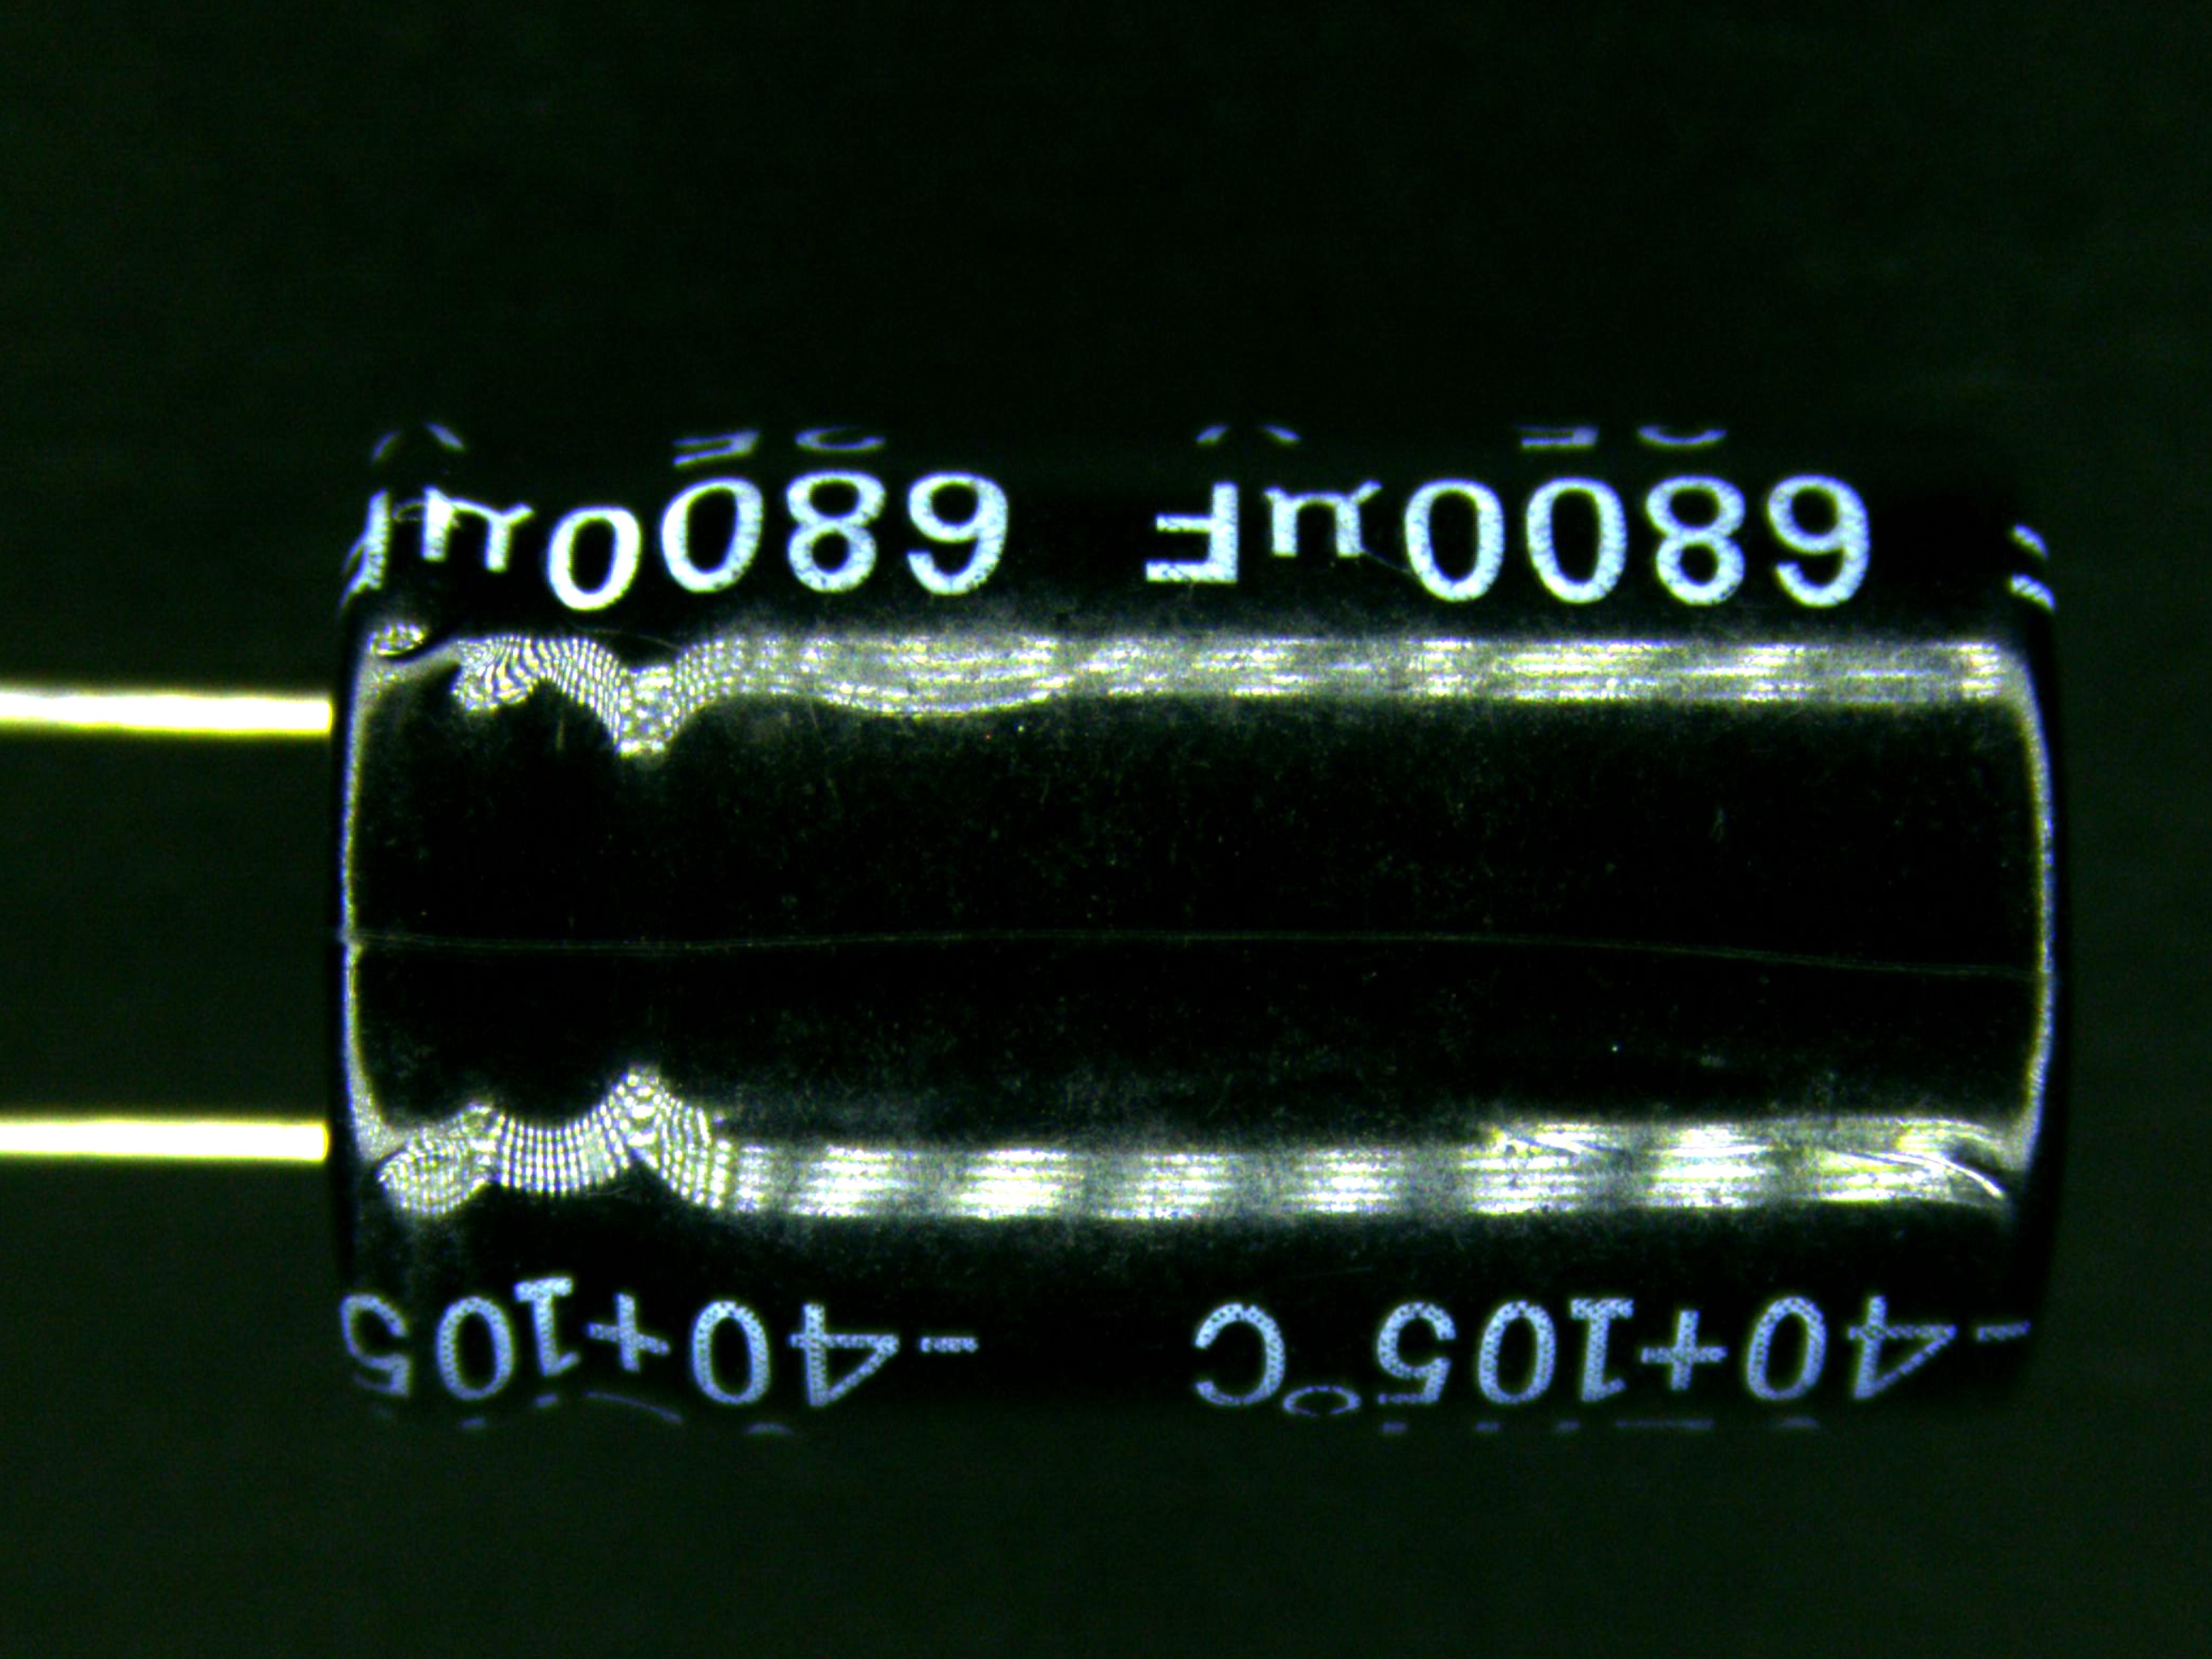c3: (0, 401, 2087, 1439)
